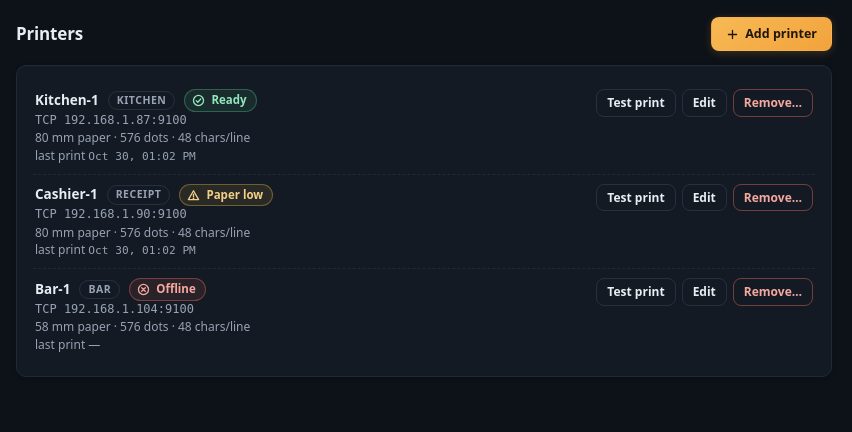
Test: PrintersScreen › shows a failure banner when the printer is unreachable
Click the button "Test print" in the row of "Bar-1".
click(636, 292)  # box [596,278,676,306]
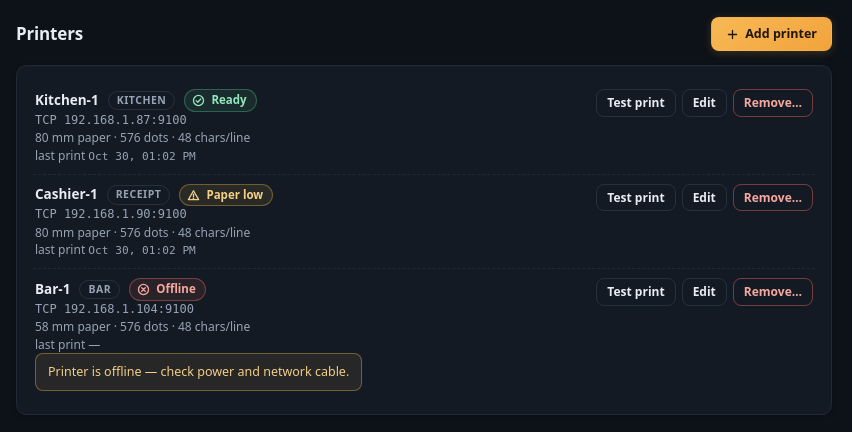
Expected: the message shows "offline", [48,363,349,380]
